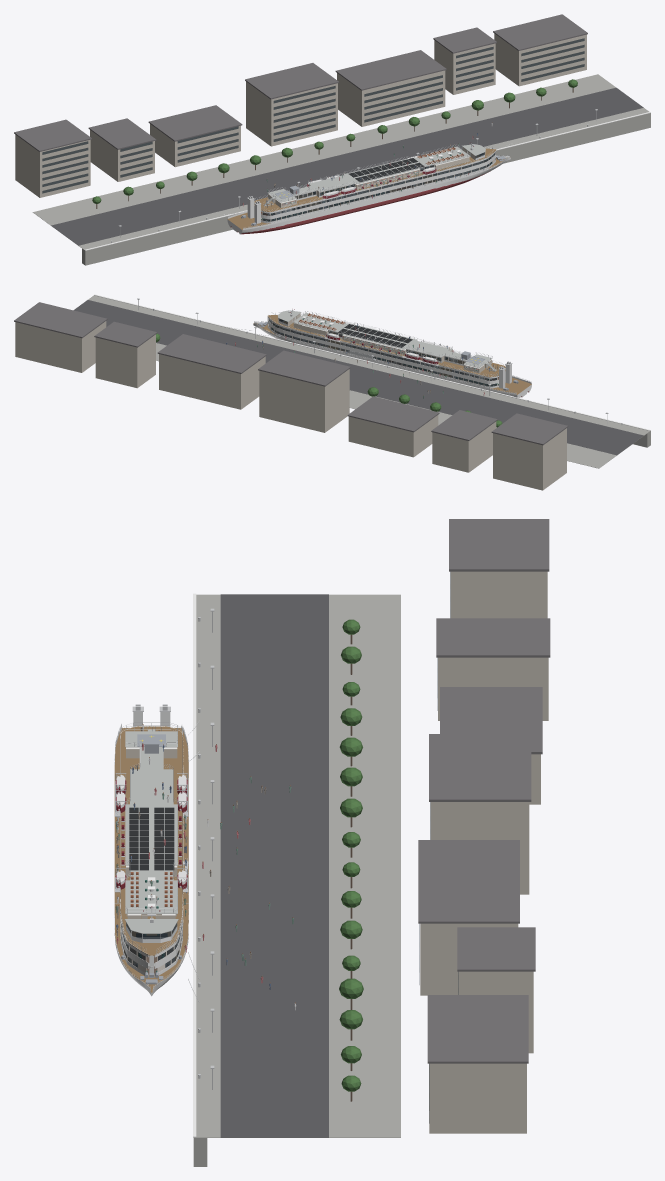
Rendered from gorizont.glb.
3 views of the same model, one above another, from view 1: azimuth 30°, elevation 25°; view 2: azimuth 150°, elevation 25°; view 3: azimuth 270°, elevation 25° (orthographic). The views are drawn at different scales.
Visible parts, largest first — view 1: наб_дома, наб_стенка, наб_проезд, наб_крыши, наб_окна, корпус, крыша_четвёртого_яруса, наб_кроны, настил_солнечной_палубы, остекление_верхняя, остекление_главная, фальшборт (+5 smaller); view 2: наб_дома, наб_крыши, наб_проезд, наб_стенка, крыша_четвёртого_яруса, наб_кордон, корпус, настил_солнечной_палубы, остекление_верхняя, фальшборт, остекление_главная, надстройка_цоколь_верхняя (+4 smaller); view 3: наб_проезд, наб_стенка, наб_крыши, наб_дома, крыша_четвёртого_яруса, наб_кроны, настил_солнечной_палубы, корпус, наб_кордон.
Boxes of the visible parts, x1,y1,x2,y2 form: наб_дома: (15, 33, 586, 197); наб_стенка: (32, 74, 650, 265); наб_проезд: (51, 87, 643, 245); наб_крыши: (14, 14, 587, 151); наб_окна: (42, 38, 584, 193); корпус: (227, 157, 510, 234); крыша_четвёртого_яруса: (268, 146, 470, 202); наб_кроны: (92, 79, 577, 203); настил_солнечной_палубы: (254, 148, 495, 211); остекление_верхняя: (263, 153, 494, 215); остекление_главная: (263, 161, 492, 221); фальшборт: (228, 156, 509, 229); наб_дома: (15, 321, 566, 490); наб_крыши: (14, 302, 568, 445); наб_проезд: (73, 300, 643, 455); наб_стенка: (88, 295, 650, 468); крыша_четвёртого_яруса: (293, 312, 492, 367); наб_кордон: (94, 294, 650, 430); корпус: (253, 323, 531, 397); настил_солнечной_палубы: (268, 315, 505, 377); остекление_верхняя: (269, 319, 496, 380); фальшборт: (254, 322, 531, 394); остекление_главная: (271, 327, 496, 386); надстройка_цоколь_верхняя: (268, 320, 498, 382); наб_проезд: (220, 594, 328, 1137); наб_стенка: (193, 594, 400, 1166); наб_крыши: (418, 519, 550, 1063); наб_дома: (420, 571, 548, 1133); крыша_четвёртого_яруса: (125, 731, 177, 913); наб_кроны: (339, 619, 363, 1091); настил_солнечной_палубы: (120, 726, 183, 955); корпус: (114, 728, 188, 996); наб_кордон: (193, 593, 196, 1137).
Size of the model in its own units: 285 by 30.67 by 96.7.
